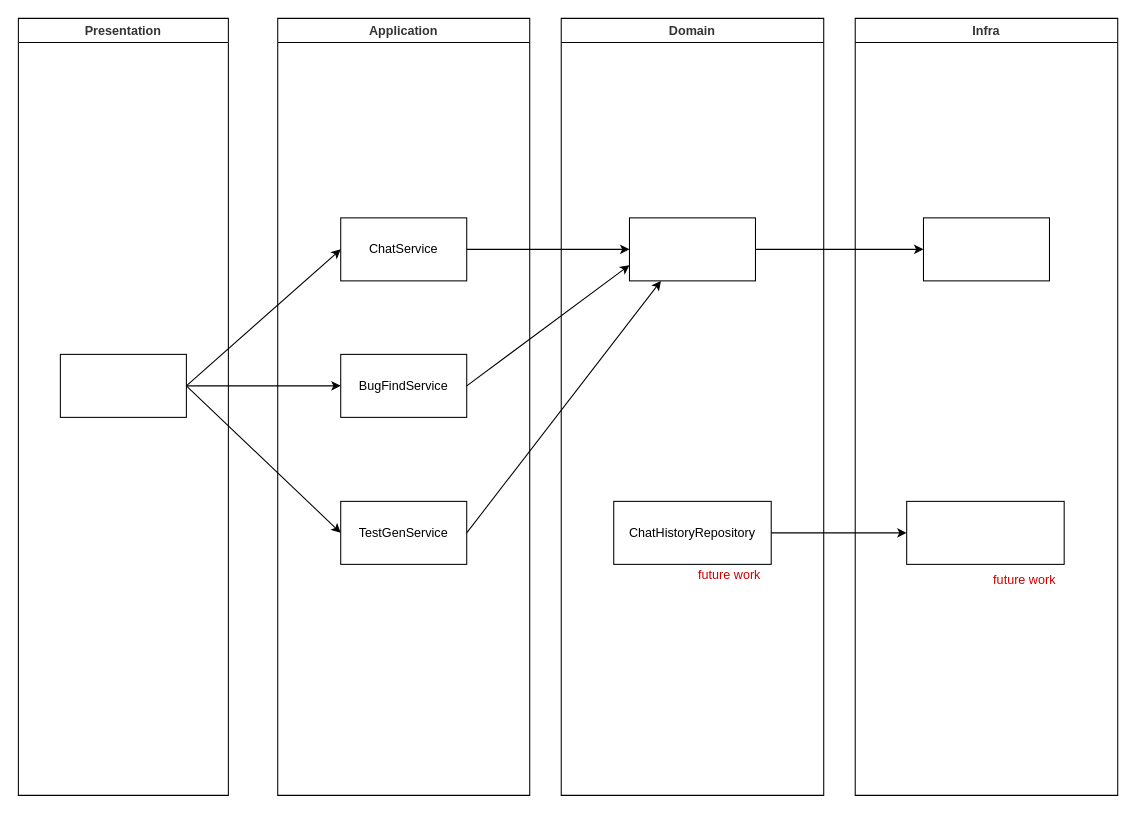
Some shapes in this 1136 by 814 pixel diagram are drawn without their labels. The box of each missing label's shape, as (x1, y1, x2, y2) in pixels:
ChatClient: (628, 217, 755, 281)
ChatGPTClient: (922, 217, 1049, 281)
CLI: (59, 353, 186, 417)
SQLiteStore: (906, 500, 1064, 564)
